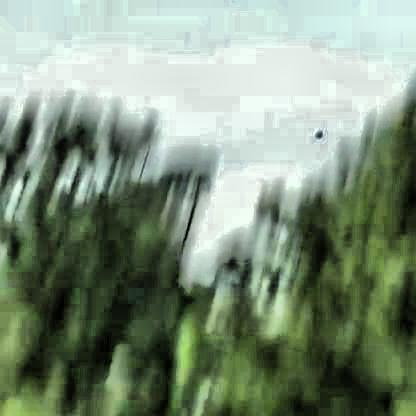golfball: (308, 127, 319, 137)
